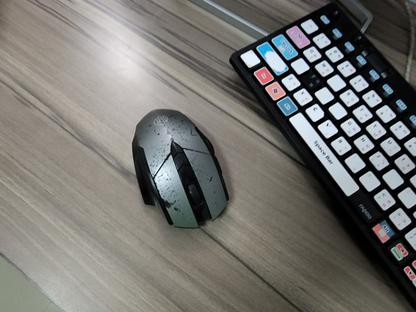mouse: (131, 107, 231, 229)
